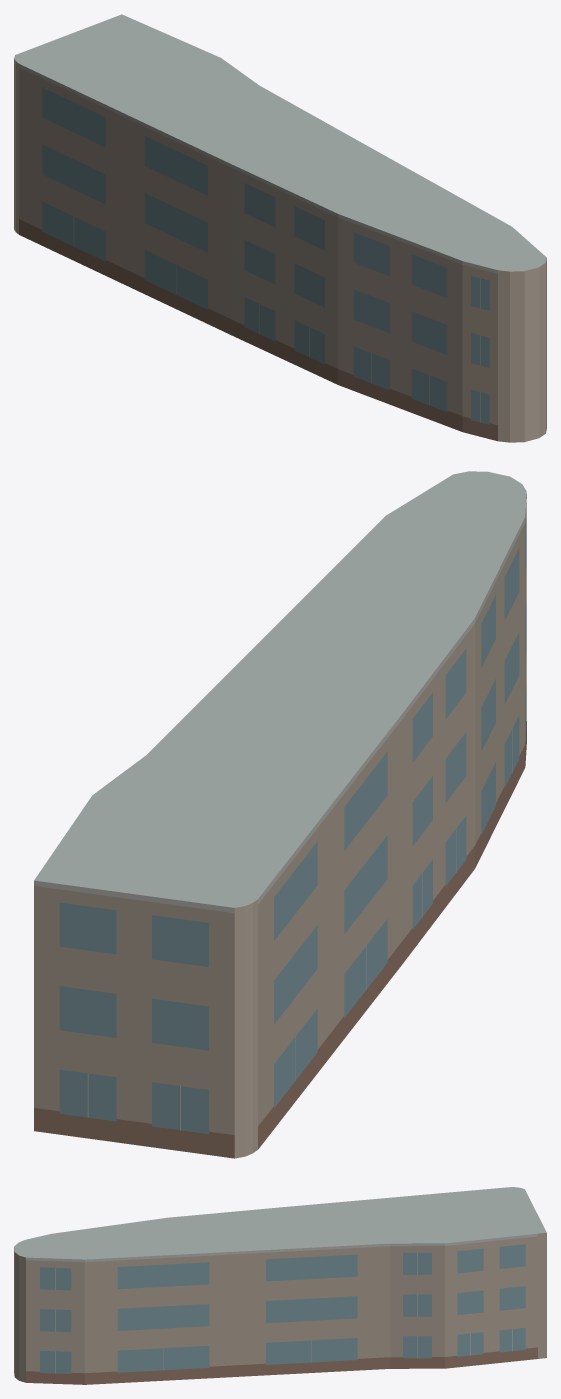
File: survey-upis-32506145.glb
3 views of the same model, one above another, from view 1: azimuth 30°, elevation 25°; view 2: azimuth 150°, elevation 25°; view 3: azimuth 270°, elevation 25° (orthographic). The views are drawn at different scales.
Visible parts, largest first — view 1: survey-upis-32506145.tmp; view 2: survey-upis-32506145.tmp; view 3: survey-upis-32506145.tmp.
Boxes of the visible parts, x1,y1,x2,y2 form: survey-upis-32506145.tmp: (14,14,546,442); survey-upis-32506145.tmp: (34,471,526,1158); survey-upis-32506145.tmp: (14,1187,546,1384).
Size of the model in its own units: 14.16 by 11.4 by 43.95.
